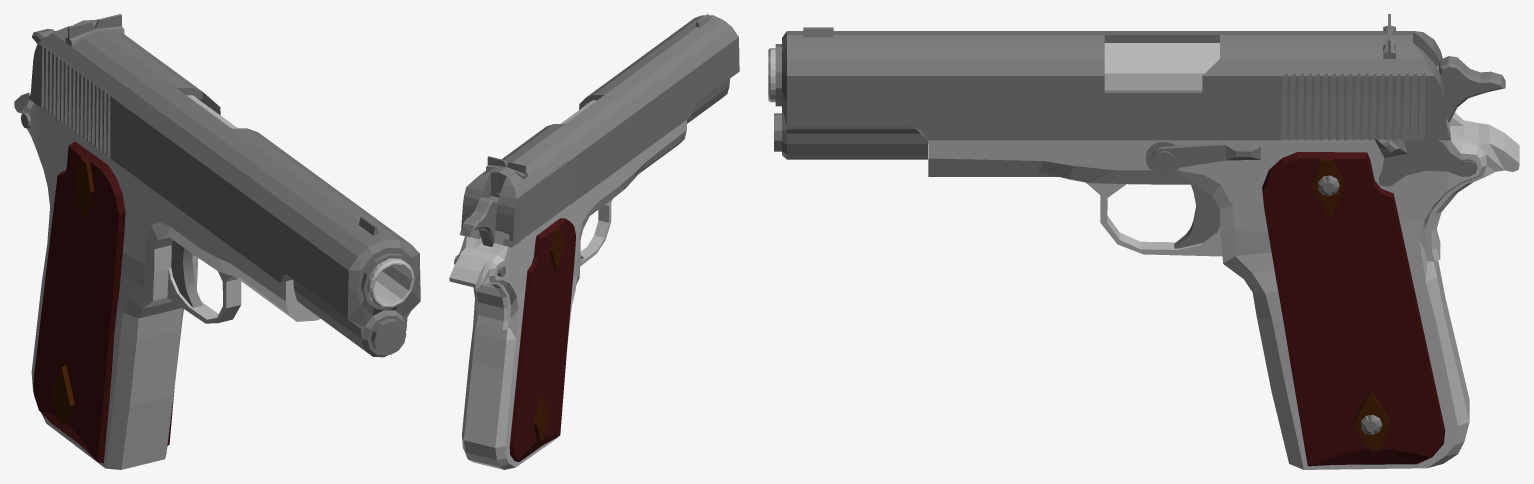
The model's file is Pistol_M1911.glb.
The picture shows the model from 3 angles, left to right: view 1: azimuth 30°, elevation 25°; view 2: azimuth 150°, elevation 25°; view 3: azimuth 270°, elevation 25°; orthographic projection. The views are drawn at different scales.
Parts seen in each view (by area): view 1: Railing, Plane, Wood, Barrel, Triguer; view 2: Railing, Plane, Wood, Hammer; view 3: Railing, Wood, Plane, Barrel, Plane.005, Circle.003, Hammer, Triguer.
Part boxes in pixels (box(x1,y1,x2,y2)): Railing: box(29, 14, 420, 357); Plane: box(14, 92, 320, 469); Wood: box(33, 141, 174, 463); Barrel: box(187, 95, 414, 308); Triguer: box(171, 240, 202, 307); Railing: box(460, 14, 739, 247); Plane: box(449, 120, 686, 469); Wood: box(509, 218, 575, 461); Hammer: box(462, 196, 498, 246); Railing: box(774, 14, 1451, 159); Wood: box(1262, 152, 1445, 466); Plane: box(928, 112, 1519, 469); Barrel: box(768, 43, 1219, 102); Plane.005: box(1375, 139, 1477, 186); Circle.003: box(1145, 141, 1260, 175); Hammer: box(1436, 56, 1505, 122); Triguer: box(1174, 184, 1220, 248).
Bounding box in the file's own units: 0.3561 × 1.56 × 2.48.
